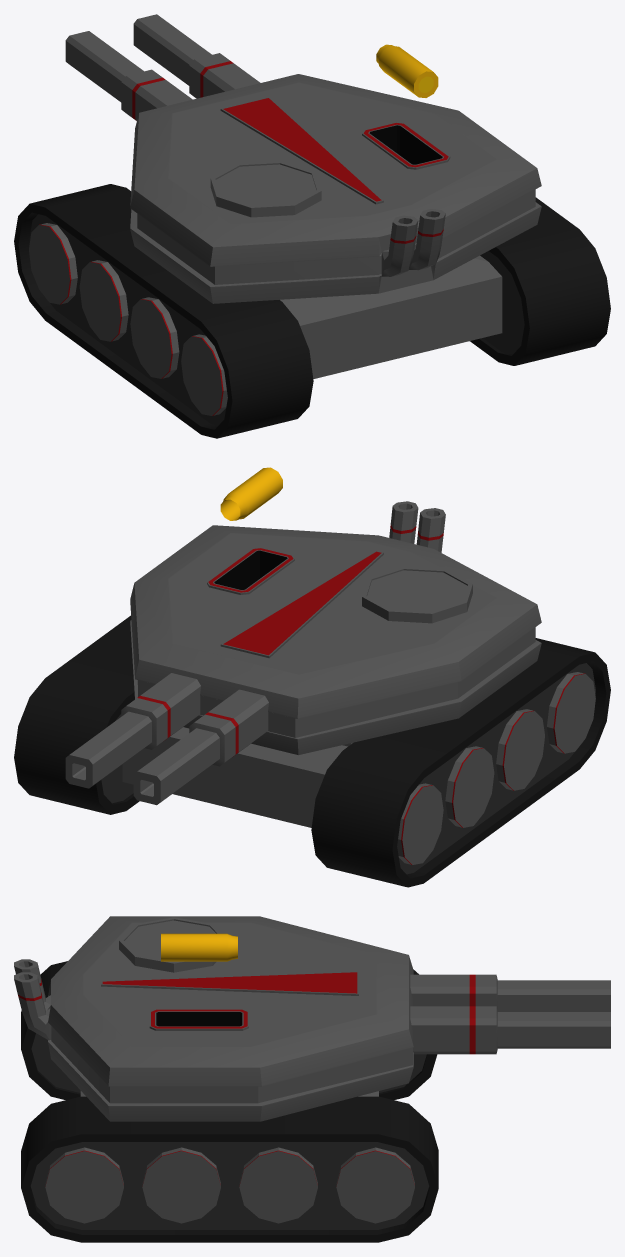
File: AT-12 Tank.glb
The picture shows the model from 3 angles, top to bottom: view 1: azimuth 30°, elevation 25°; view 2: azimuth 150°, elevation 25°; view 3: azimuth 270°, elevation 25°; orthographic projection. The views are drawn at different scales.
Visible parts, largest first — view 1: Turret, Tracks, Base, Barrels.001, Turret.001, Barrels, Track Gear.003, Track Gear.002, Track Gear.001, Track Gear, Casing; view 2: Turret, Tracks, Base, Barrels.001, Barrels, Turret.001, Track Gear, Track Gear.002, Track Gear.003, Track Gear.001, Casing; view 3: Turret, Tracks, Barrels.001, Barrels, Track Gear, Track Gear.001, Track Gear.002, Track Gear.003, Turret.001, Casing.
Boxes of the visible parts, left/top/right/bottom form: Turret: left=130, top=74, right=541, bottom=303; Tracks: left=14, top=184, right=610, bottom=438; Base: left=280, top=255, right=502, bottom=378; Barrels.001: left=65, top=14, right=211, bottom=102; Turret.001: left=210, top=161, right=321, bottom=217; Barrels: left=121, top=53, right=260, bottom=120; Track Gear.003: left=130, top=297, right=179, bottom=378; Track Gear.002: left=79, top=260, right=128, bottom=341; Track Gear.001: left=29, top=223, right=77, bottom=304; Track Gear: left=181, top=334, right=227, bottom=415; Casing: left=376, top=44, right=438, bottom=97; Turret: left=130, top=501, right=541, bottom=754; Tracks: left=14, top=615, right=610, bottom=887; Base: left=122, top=727, right=352, bottom=827; Barrels.001: left=65, top=711, right=219, bottom=805; Barrels: left=121, top=673, right=268, bottom=766; Turret.001: left=362, top=567, right=472, bottom=623; Track Gear: left=547, top=672, right=595, bottom=753; Track Gear.002: left=445, top=746, right=494, bottom=827; Track Gear.003: left=496, top=709, right=544, bottom=790; Track Gear.001: left=397, top=783, right=443, bottom=864; Casing: left=220, top=467, right=282, bottom=520; Turret: left=14, top=916, right=413, bottom=1121; Tracks: left=21, top=961, right=438, bottom=1242; Barrels.001: left=497, top=980, right=610, bottom=1048; Barrels: left=410, top=974, right=497, bottom=1054; Track Gear: left=45, top=1147, right=123, bottom=1223; Track Gear.001: left=336, top=1147, right=414, bottom=1223; Track Gear.002: left=239, top=1147, right=317, bottom=1223; Track Gear.003: left=142, top=1147, right=220, bottom=1223; Turret.001: left=119, top=917, right=221, bottom=972; Casing: left=161, top=933, right=237, bottom=961.
Size of the model in its own units: 1.4 by 0.9459 by 2.
